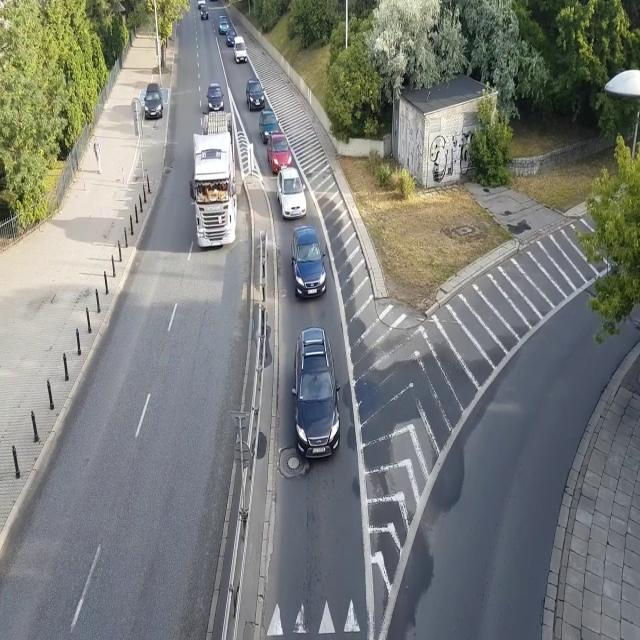car: (288, 326, 343, 462), (288, 224, 328, 300), (276, 166, 308, 220), (268, 131, 292, 172), (143, 80, 164, 120), (259, 104, 280, 143), (246, 77, 265, 111), (206, 82, 225, 112), (218, 15, 229, 36), (226, 28, 237, 47), (200, 5, 209, 21)
truck: (187, 110, 239, 249)
van: (233, 35, 248, 65), (197, 0, 207, 9)
